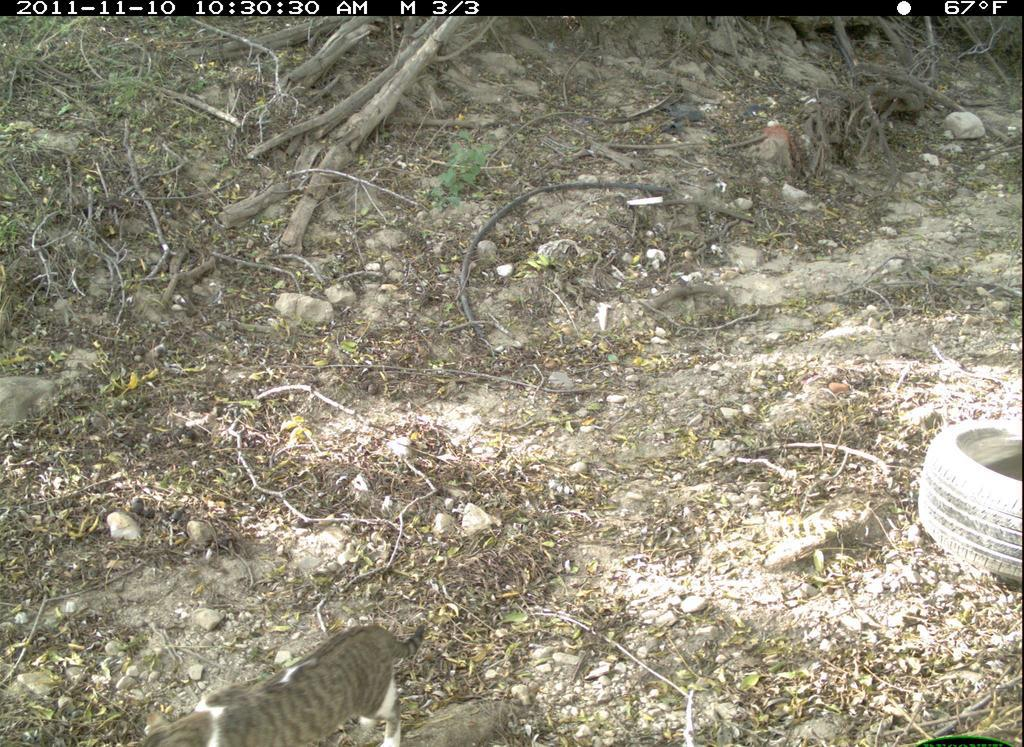cat: (116, 600, 487, 744)
